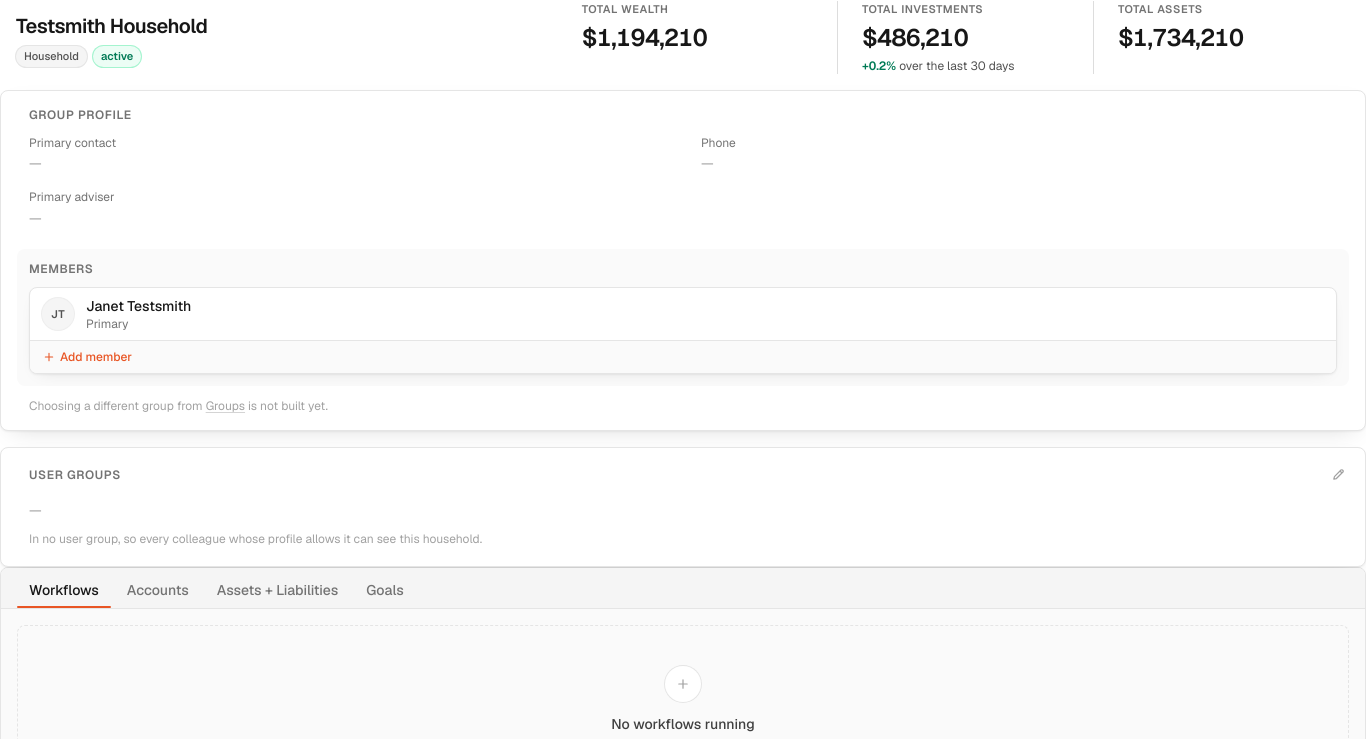
the Assets + Liabilities tab › the totals › net position is stated once, below both columns
Click the tab "Assets + Liabilities" at (278, 590), box [205, 572, 350, 608]
(page scrolled)
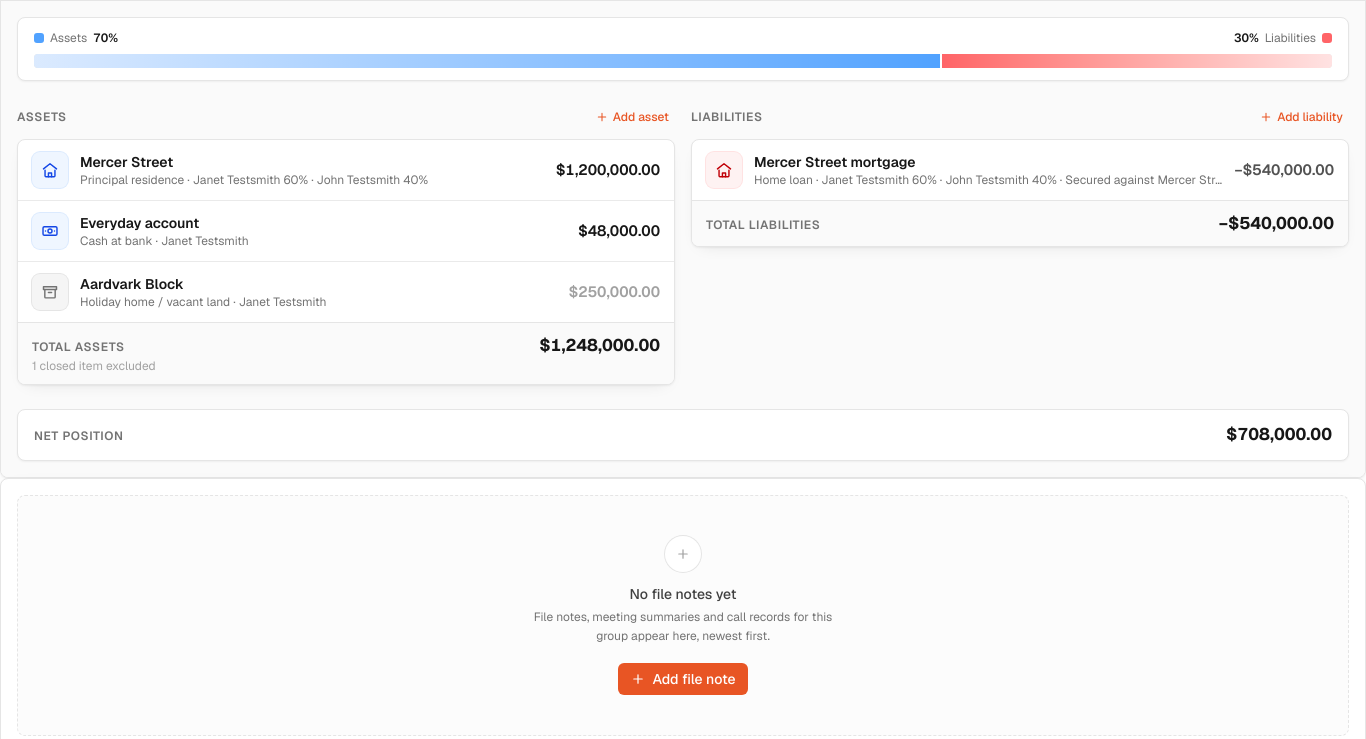
Expected: the text "Net position" shows "$708,000.00", [1226, 423, 1332, 445]
